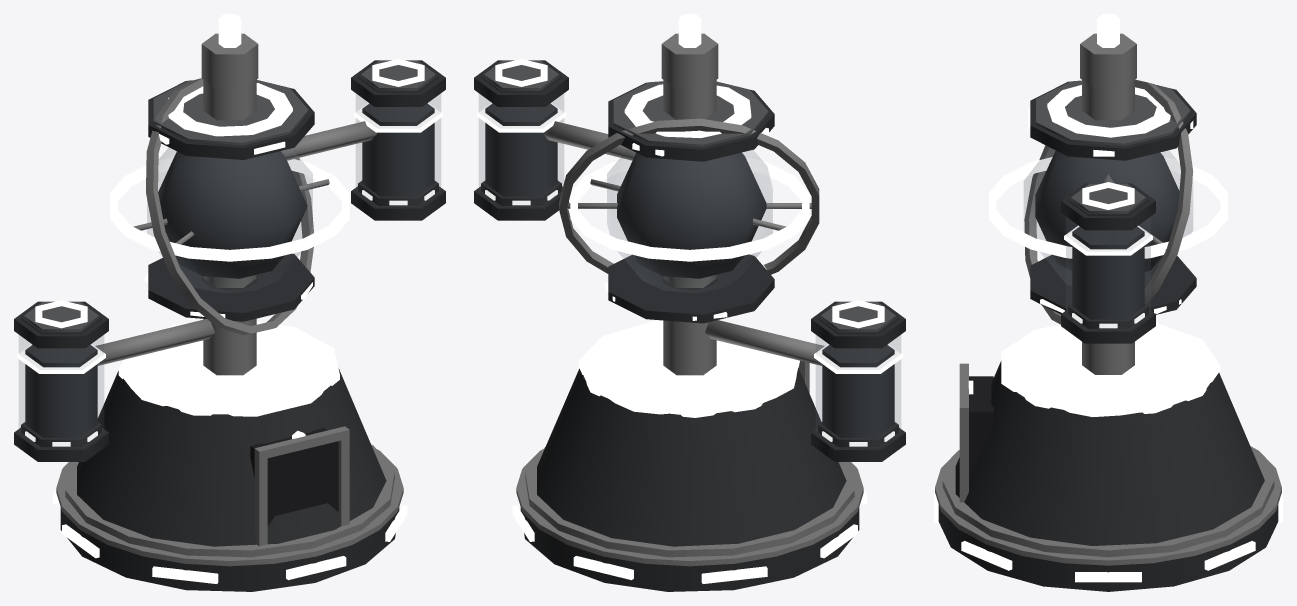
File: Skin_Reactor_T2.glb
3 renders of one model, left to right at view 1: azimuth 30°, elevation 25°; view 2: azimuth 150°, elevation 25°; view 3: azimuth 270°, elevation 25°, orthographic.
Visible parts, largest first — view 1: Skin_Reactor_T2; view 2: Skin_Reactor_T2; view 3: Skin_Reactor_T2.
Boxes of the visible parts, x1,y1,x2,y2 form: Skin_Reactor_T2: (14,14,445,591); Skin_Reactor_T2: (474,14,905,591); Skin_Reactor_T2: (934,14,1282,591).
Bounding box in the file's own units: 4.97 × 5.84 × 3.68.
